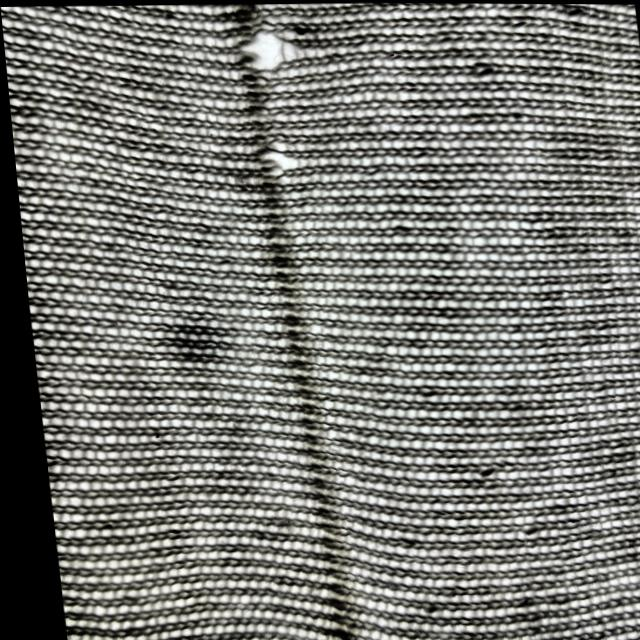Hole: (157, 300, 231, 374), (229, 24, 306, 73), (253, 140, 305, 186)
